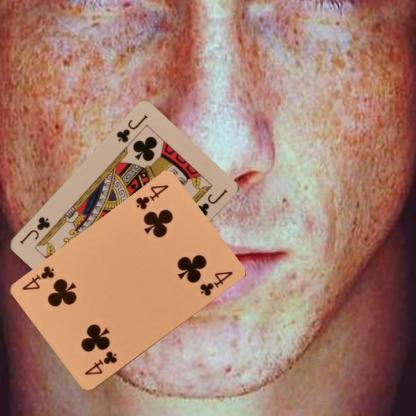4c: (133, 182, 170, 211), (82, 348, 118, 377)
Jc: (113, 112, 150, 145)
